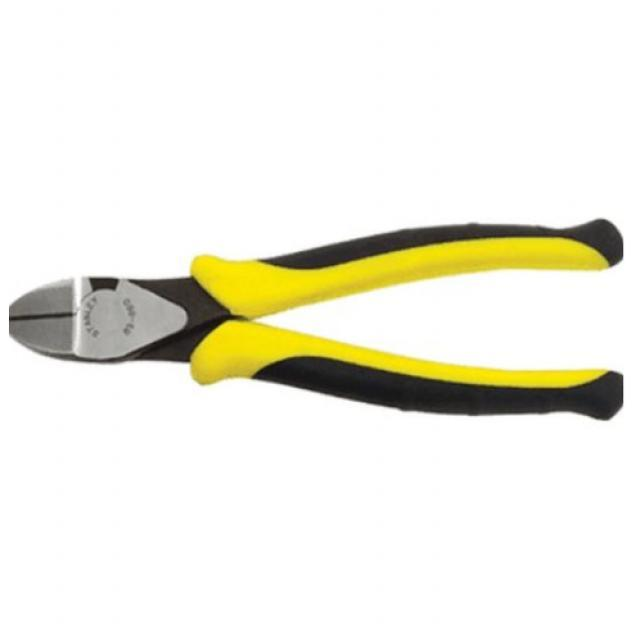pliers: (6, 204, 627, 428)
